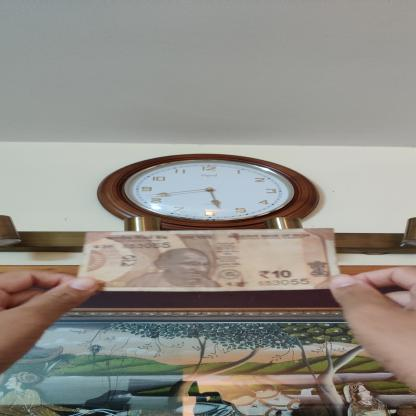New10Front: (78, 228, 344, 292)
